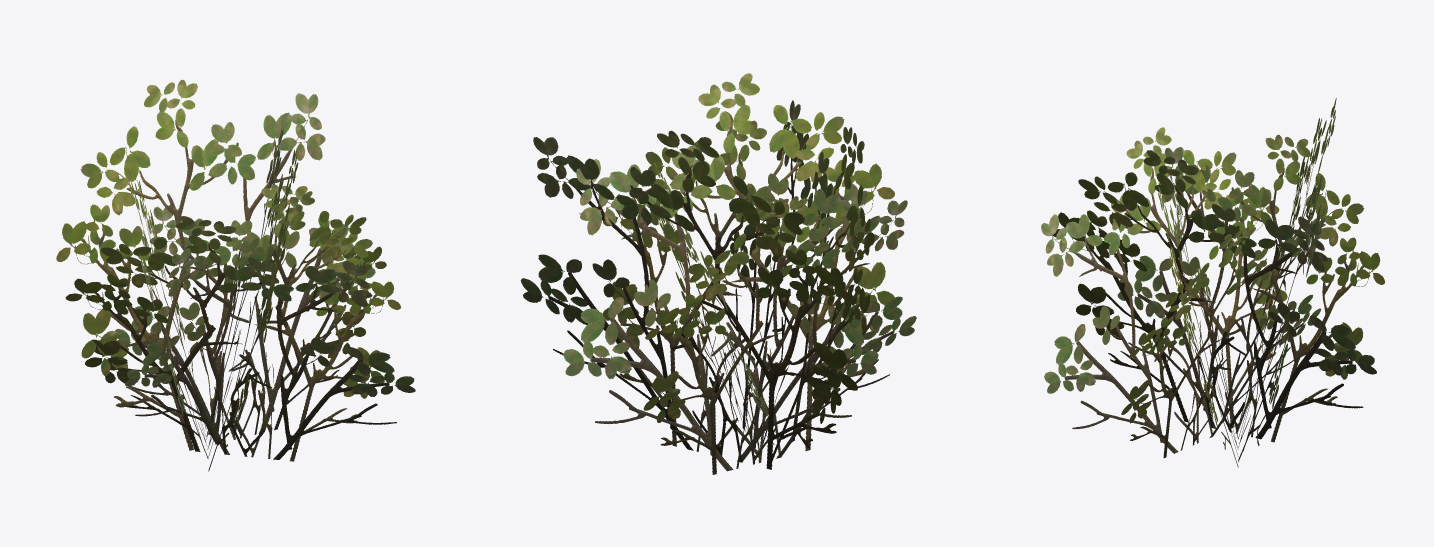
The model's file is Underbrush.dae.
3 views of the same model, side by side, from view 1: azimuth 30°, elevation 25°; view 2: azimuth 150°, elevation 25°; view 3: azimuth 270°, elevation 25° (orthographic). The views are drawn at different scales.
Visible parts, largest first — view 1: Plant (×3); view 2: Plant (×3); view 3: Plant (×3).
Boxes of the visible parts, x1,y1,x2,y2 form: Plant (×3): (56,79,415,471); Plant (×3): (520,73,916,474); Plant (×3): (1041,98,1384,467).
Bounding box in the file's own units: 38.18 × 39 × 34.99.
1 material, 1 textured.
